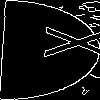X: (25, 25, 100, 60)
